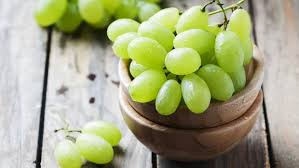Green grapes: (109, 11, 266, 112), (46, 115, 130, 168)
